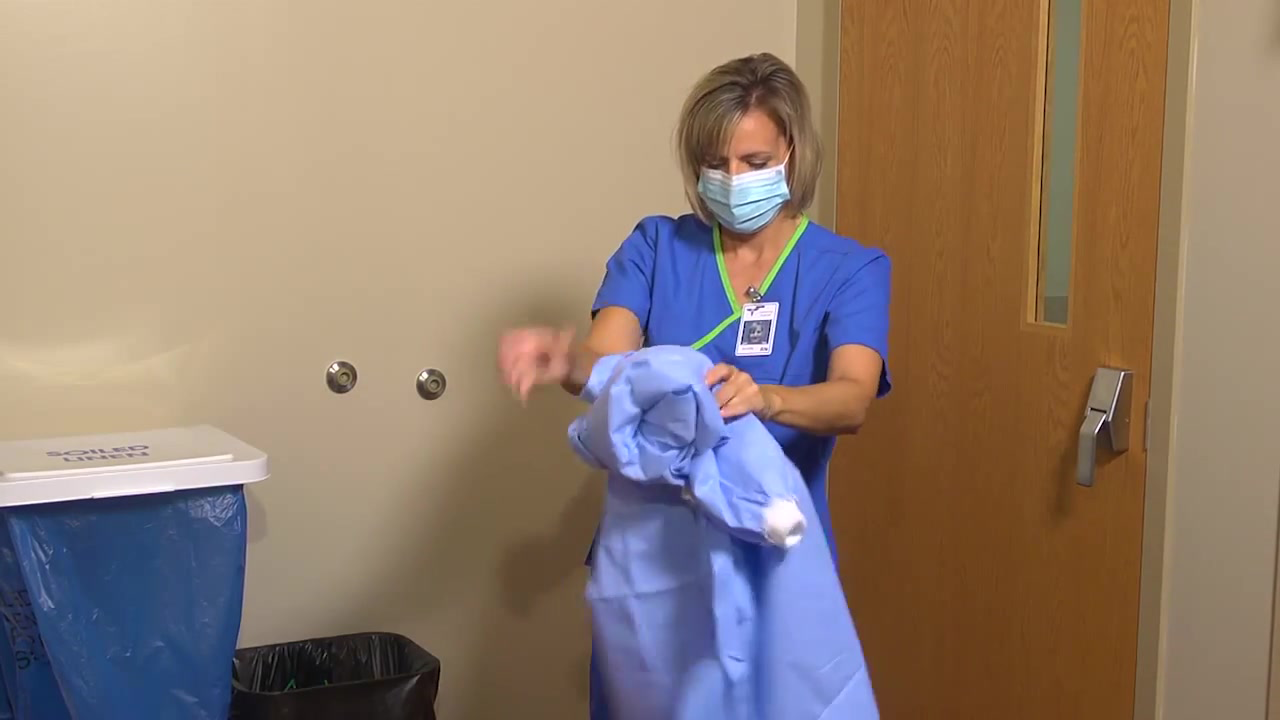with_mask: (685, 153, 793, 234)
